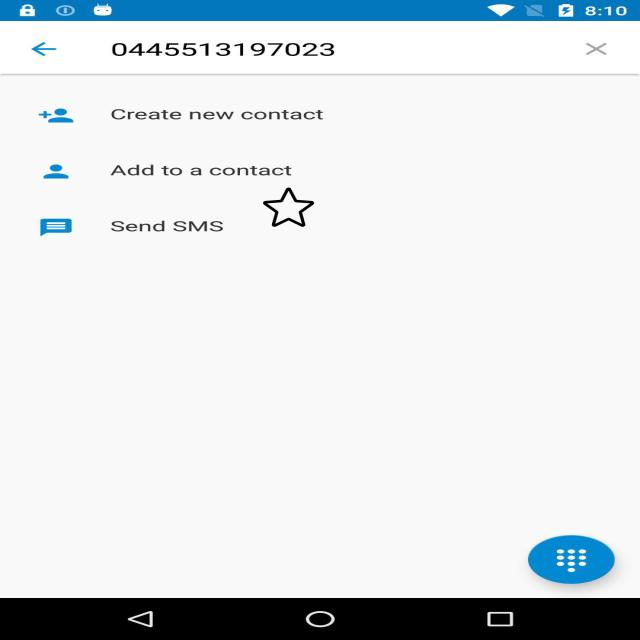forced continuity: (263, 186, 314, 228)
